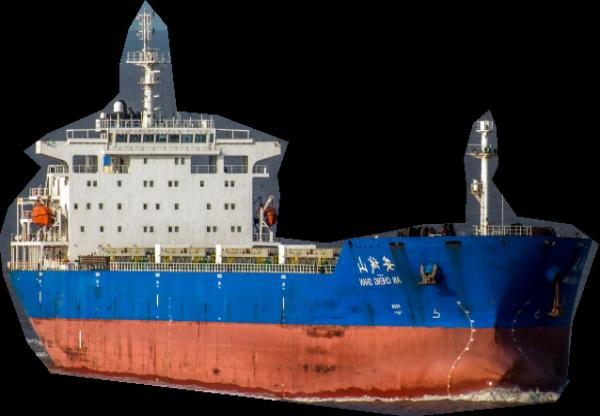Bulkers: (0, 0, 600, 416)
